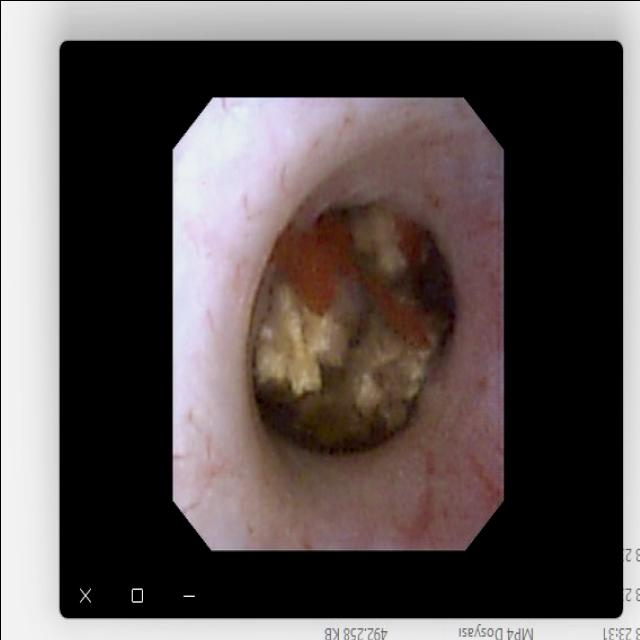stone: (258, 205, 438, 444)
tissue: (182, 105, 497, 544)
